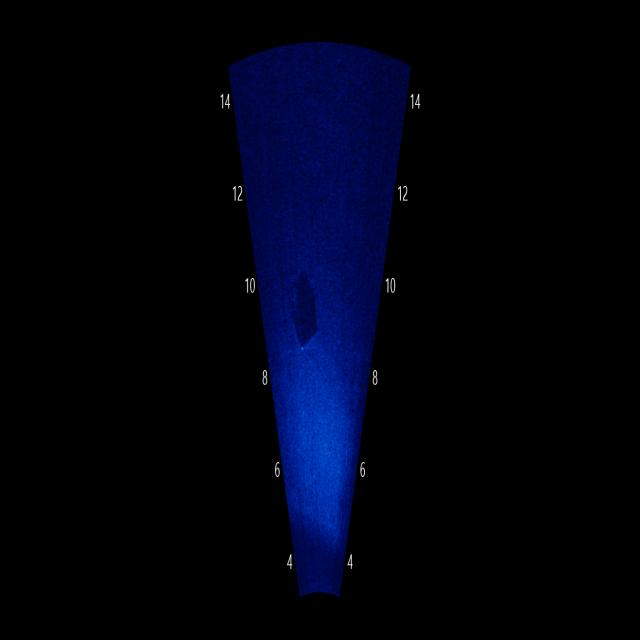square: (285, 272, 328, 366)
